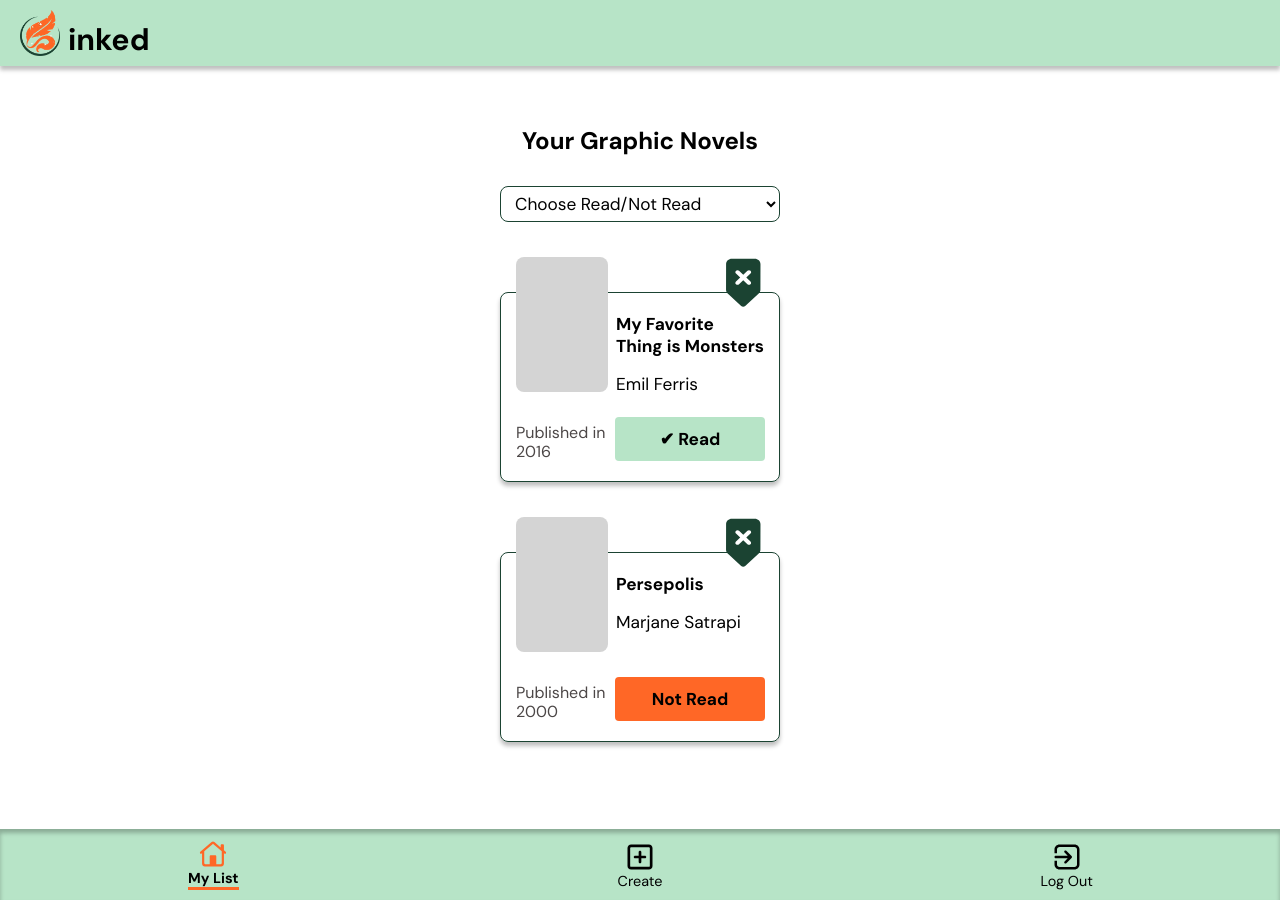
Given an App component › When the user clicks on the 'My Favorite Thing is Monsters' comic › Then it should navigate to its detail page and show the comic 'My Favorite Thing is Monsters' with author data heading 'About the author'
Click the link "My Favorite Thing is Monsters Emil Ferris". click: (690, 354)
box: top-left (616, 313), bottom-right (764, 395)
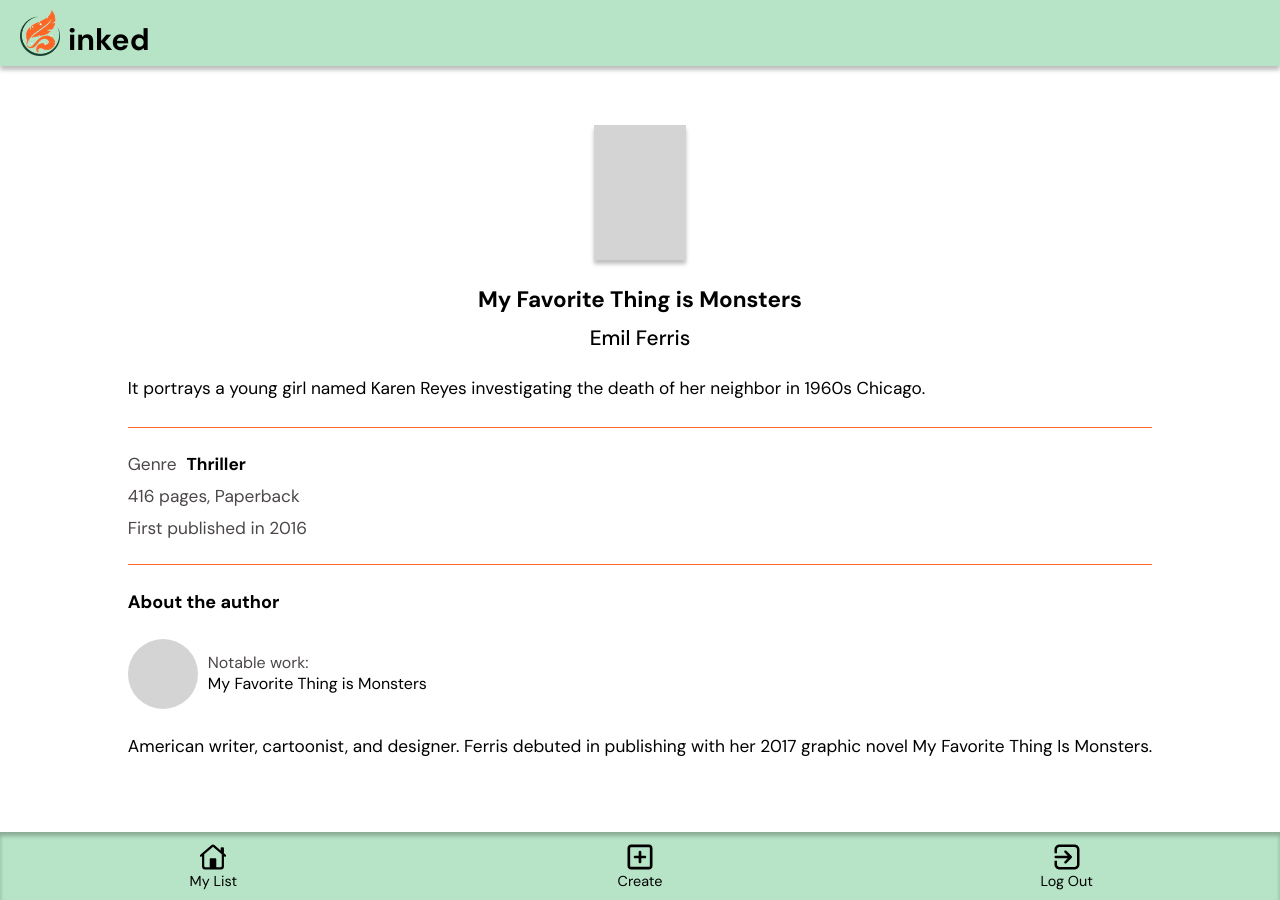
Expected: the heading "About the author" is shown, top-left (128, 590), bottom-right (279, 614)
